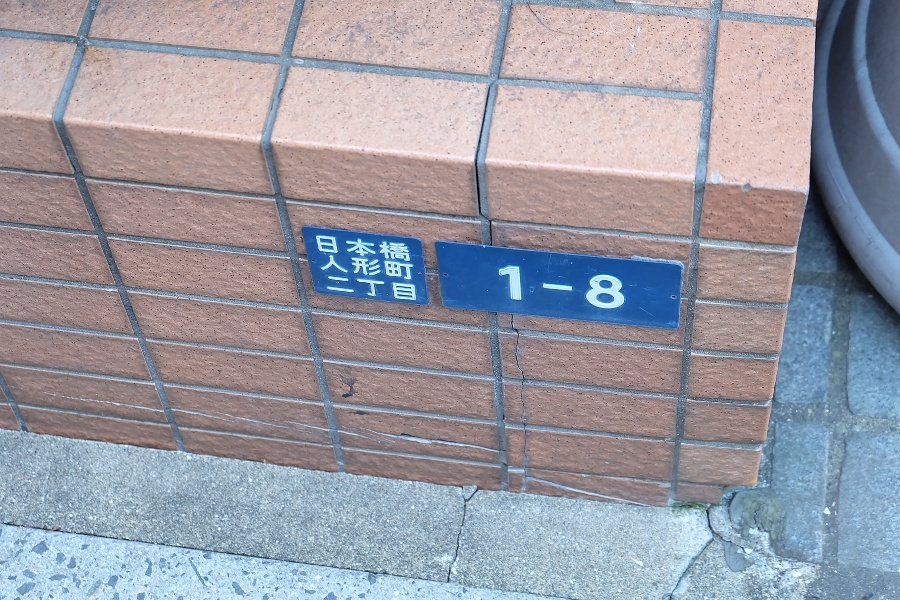text: (497, 265, 512, 312), (513, 265, 528, 312), (529, 265, 544, 312), (545, 265, 560, 312), (561, 265, 576, 312), (577, 265, 592, 312), (593, 265, 608, 312), (609, 265, 624, 312), (321, 234, 336, 263), (337, 234, 352, 263), (353, 234, 368, 263), (369, 234, 384, 263), (385, 234, 400, 263), (337, 274, 352, 303), (353, 274, 368, 303), (369, 274, 384, 303), (385, 274, 400, 303), (401, 274, 416, 303), (321, 254, 336, 282), (337, 254, 352, 282), (353, 254, 368, 282), (369, 254, 384, 282), (385, 254, 400, 282), (401, 254, 415, 282), (401, 234, 412, 263), (325, 274, 336, 303), (314, 234, 320, 263), (417, 274, 419, 303), (495, 265, 496, 312), (625, 265, 626, 312)
